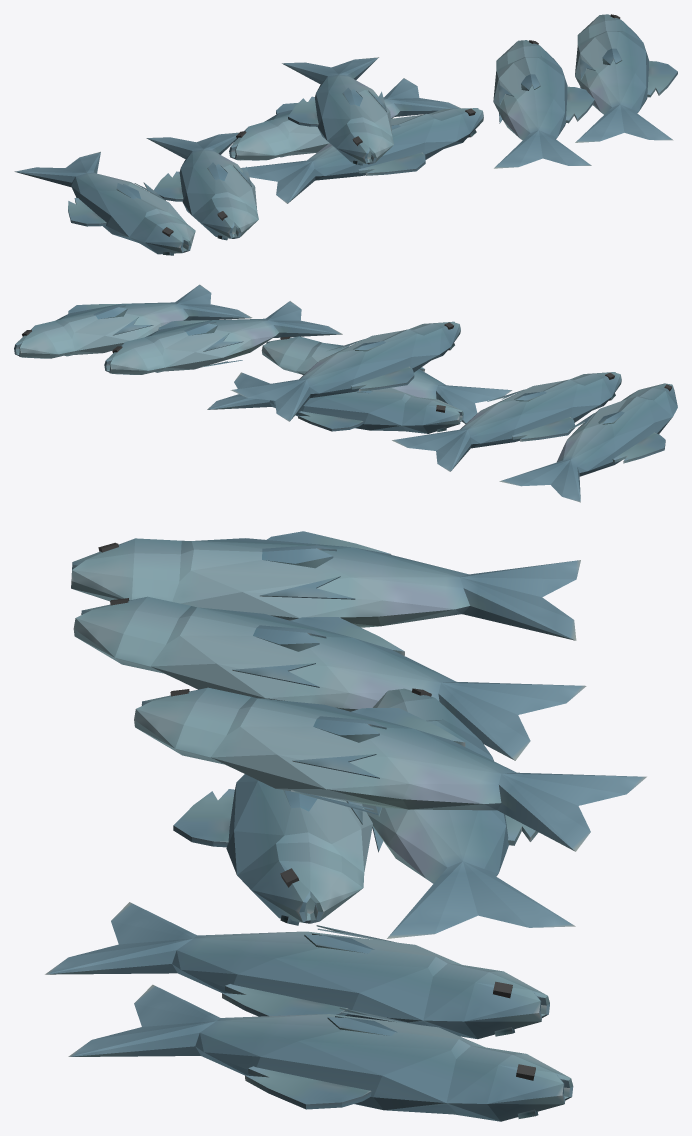
File: fish.glb
3 renders of one model, top to bottom at view 1: azimuth 30°, elevation 25°; view 2: azimuth 150°, elevation 25°; view 3: azimuth 270°, elevation 25°, orthographic. The views are drawn at different scales.
Visible parts, largest first — view 1: fish (4), fish (5), fish, fish (3), fish (6), fish (1), fish (2); view 2: fish (6), fish (1), fish, fish (4), fish (5), fish (2), fish (3); view 3: fish (6), fish (5), fish, fish (4), fish (1), fish (3), fish (2).
Boxes of the visible parts, bbox=[...] form: fish (4): bbox=[493, 40, 594, 168]; fish (5): bbox=[575, 14, 677, 142]; fish: bbox=[14, 151, 195, 255]; fish (3): bbox=[241, 108, 483, 203]; fish (6): bbox=[282, 57, 393, 165]; fish (1): bbox=[146, 132, 258, 240]; fish (2): bbox=[229, 78, 461, 160]; fish (6): bbox=[230, 321, 460, 421]; fish (1): bbox=[392, 372, 621, 471]; fish: bbox=[499, 383, 677, 502]; fish (4): bbox=[104, 301, 342, 374]; fish (5): bbox=[14, 284, 252, 358]; fish (2): bbox=[207, 372, 463, 433]; fish (3): bbox=[261, 336, 512, 423]; fish (6): bbox=[134, 687, 646, 851]; fish (5): bbox=[68, 984, 573, 1121]; fish: bbox=[71, 531, 580, 640]; fish (4): bbox=[45, 902, 549, 1039]; fish (1): bbox=[73, 596, 586, 760]; fish (3): bbox=[173, 774, 372, 925]; fish (2): bbox=[362, 688, 575, 938].
Bounding box in the file's own units: 1.8 × 0.1884 × 0.7946.
Materials: 1 (1 with a texture image).
